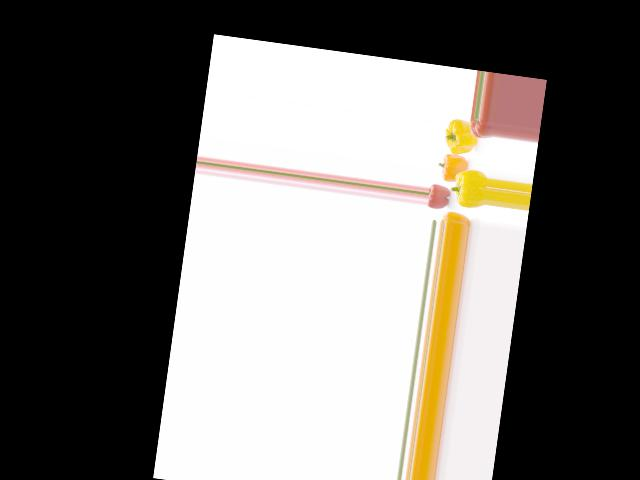bell_pepper: (439, 208, 472, 227)
